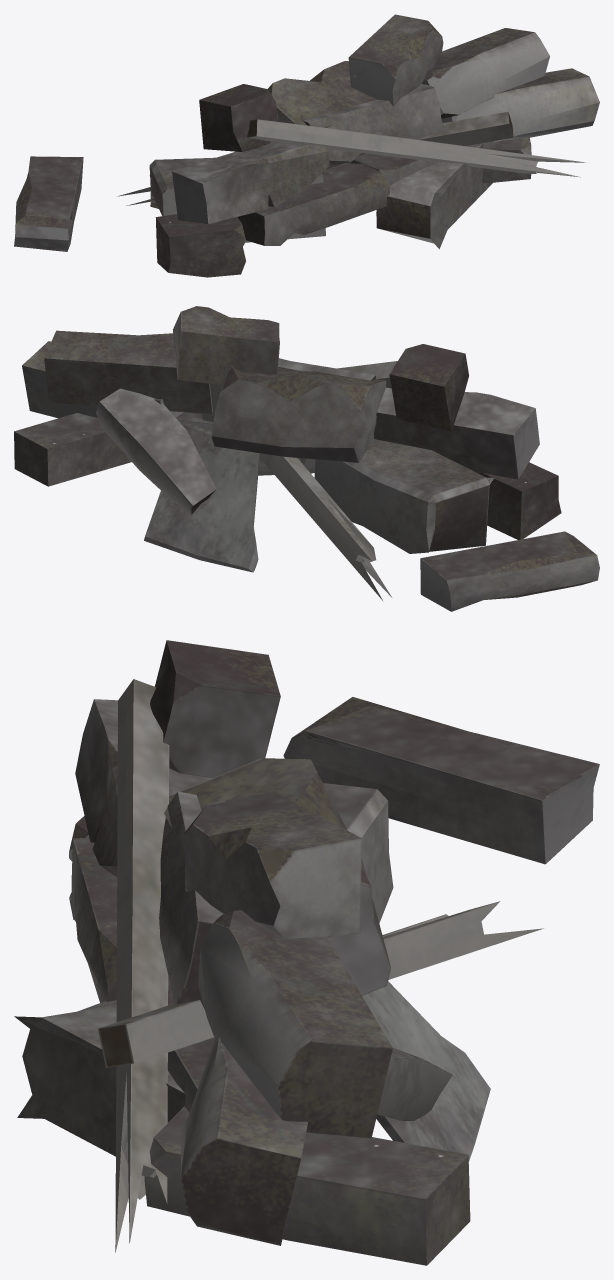
File: House_rubble1.fbx
3 views of the same model, one above another, from view 1: azimuth 30°, elevation 25°; view 2: azimuth 150°, elevation 25°; view 3: azimuth 270°, elevation 25° (orthographic). The views are drawn at different scales.
Parts seen in each view (by area): view 1: broken_beam.005; view 2: broken_beam.005; view 3: broken_beam.005.
Part boxes in pixels (left/top/right/bottom): broken_beam.005: left=14, top=14, right=599, bottom=277; broken_beam.005: left=14, top=306, right=599, bottom=611; broken_beam.005: left=14, top=640, right=599, bottom=1265.
Bounding box in the file's own units: 218 × 69.49 × 102.
